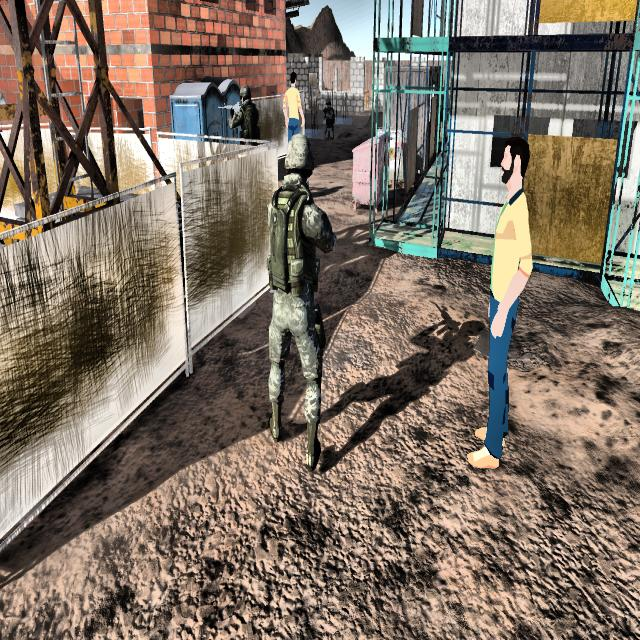bad: (262, 127, 337, 489), (226, 77, 264, 149), (320, 87, 340, 146)
good: (454, 116, 539, 493), (277, 59, 311, 152)
